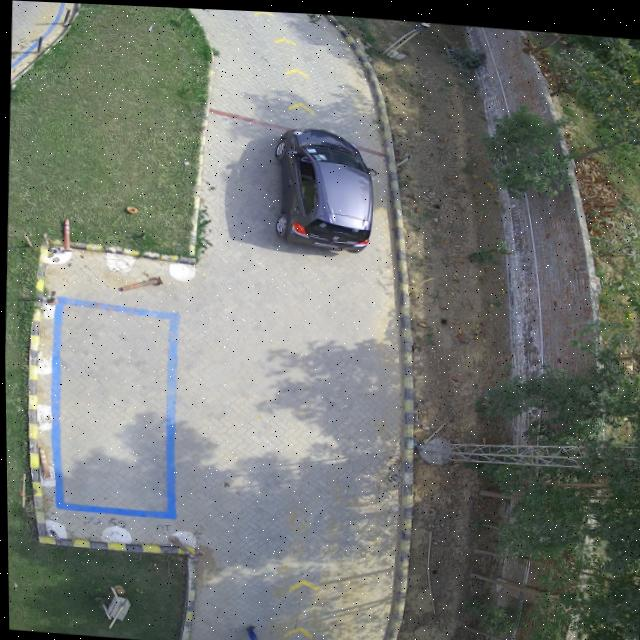car: (273, 124, 374, 250)
